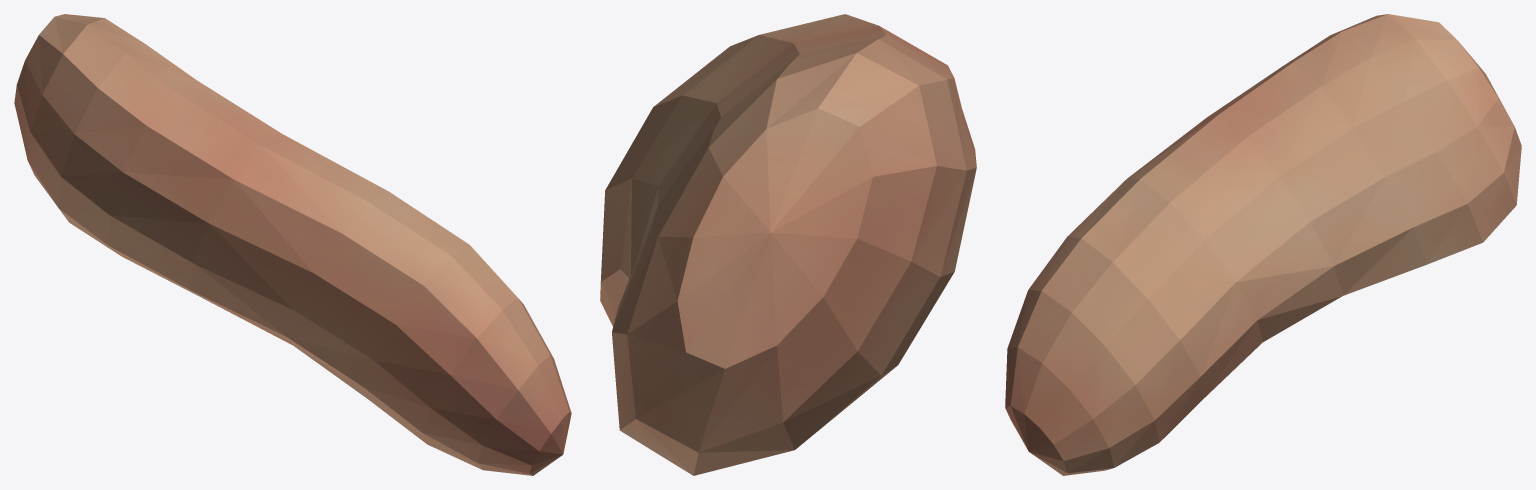
The model's file is adrenal_R_LP.glb.
3 renders of one model, left to right at view 1: azimuth 30°, elevation 25°; view 2: azimuth 150°, elevation 25°; view 3: azimuth 270°, elevation 25°, orthographic. The views are drawn at different scales.
Parts seen in each view (by area): view 1: adrenal_R_LP; view 2: adrenal_R_LP; view 3: adrenal_R_LP.
Boxes of the visible parts, box(x1,y1,x2,y2) form: adrenal_R_LP: box(14, 14, 571, 475); adrenal_R_LP: box(600, 14, 976, 475); adrenal_R_LP: box(1005, 14, 1521, 475).
Bounding box in the file's own units: 0.000297 × 0.000315 × 0.000427.
1 material, 1 textured.
